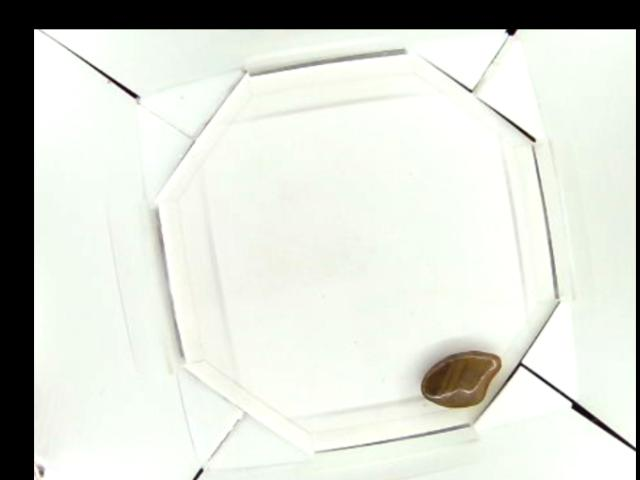Pebble: (419, 349, 500, 408)
